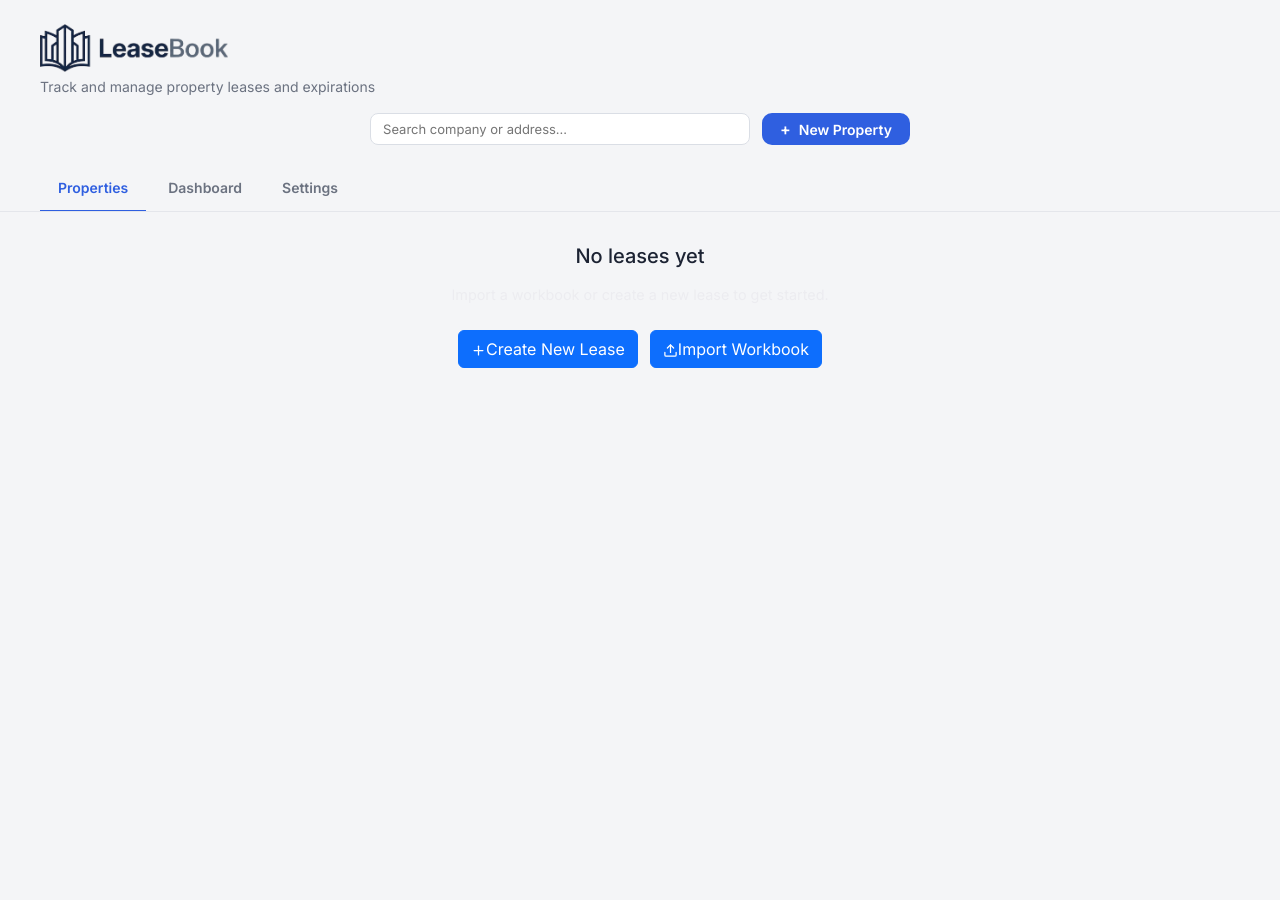
Test: App auth flow › requires a password before offering passkey setup
Click the button "Settings": (310, 188) 264,165 -> 356,212
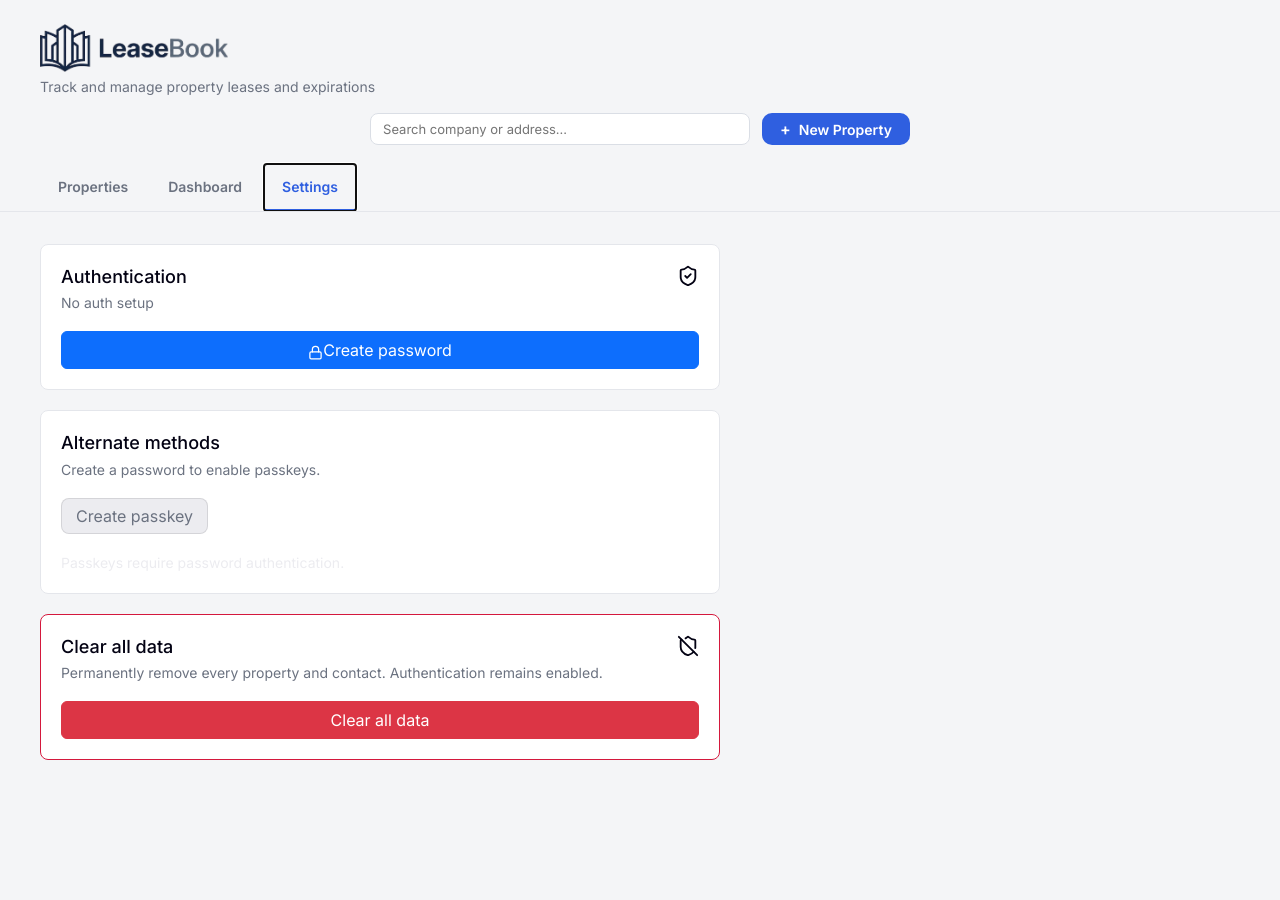
expect the text "Create a password to enable passkeys." is shown: met, box 61,459 -> 320,480
expect the button "Create passkey" is disabled: met, box 61,498 -> 208,534
